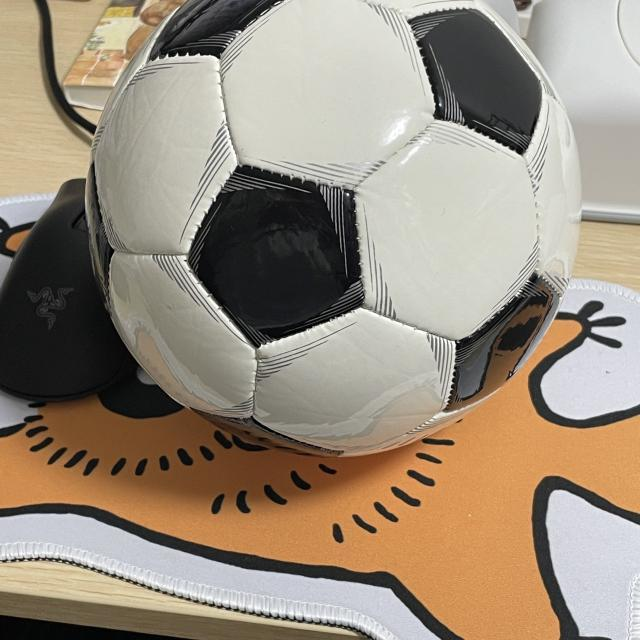ball: (86, 1, 582, 457)
